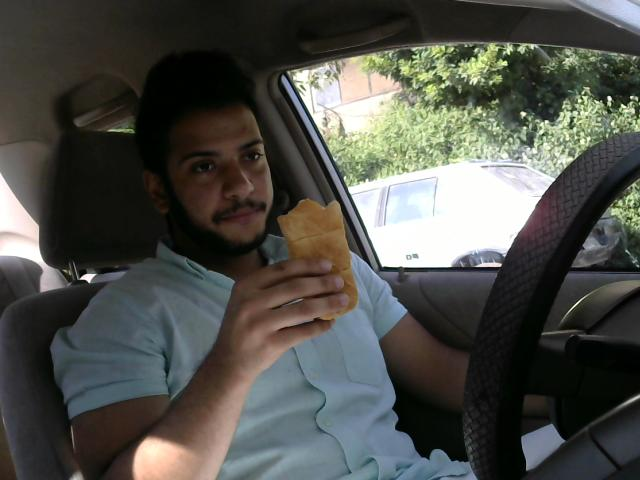Eating: (274, 187, 359, 322)
